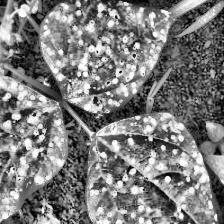Bean Rust: (84, 105, 224, 224), (48, 0, 162, 106), (0, 80, 63, 224), (203, 142, 224, 224)
